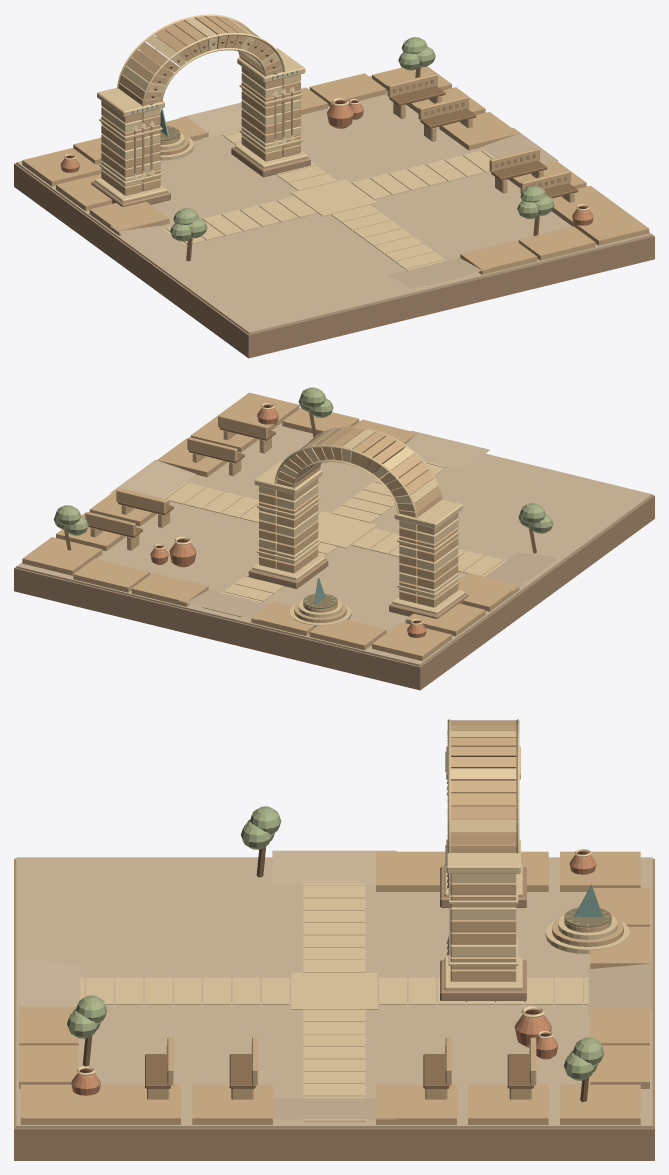
File: ochre_court-scene.glb
The picture shows the model from 3 angles, top to bottom: view 1: azimuth 30°, elevation 25°; view 2: azimuth 150°, elevation 25°; view 3: azimuth 270°, elevation 25°; orthographic projection. The views are drawn at different scales.
Parts seen in each view (by area): view 1: runtime_Court paving, runtime_Honey sandstone, runtime_Fresh carved sandstone, runtime_Court strata, runtime_Dry olive leaves, runtime_Weathered ochre joints, runtime_Desert cedar, runtime_Terracotta vessels; view 2: runtime_Court paving, runtime_Honey sandstone, runtime_Fresh carved sandstone, runtime_Court strata, runtime_Dry olive leaves, runtime_Terracotta vessels, runtime_Weathered ochre joints, runtime_Desert cedar; view 3: runtime_Court paving, runtime_Honey sandstone, runtime_Fresh carved sandstone, runtime_Court strata, runtime_Desert cedar, runtime_Dry olive leaves, runtime_Terracotta vessels, runtime_Weathered ochre joints.
Boxes of the visible parts, box(x1,y1,x2,y2) form: runtime_Court paving: box(16, 75, 652, 334); runtime_Honey sandstone: box(22, 16, 649, 274); runtime_Fresh carved sandstone: box(64, 14, 589, 285); runtime_Court strata: box(14, 163, 654, 358); runtime_Dry olive leaves: box(170, 37, 554, 241); runtime_Weathered ochre joints: box(91, 38, 566, 206); runtime_Desert cedar: box(186, 67, 578, 261); runtime_Terracotta vessels: box(60, 100, 593, 225); runtime_Court paving: box(16, 423, 652, 666); runtime_Honey sandstone: box(22, 392, 519, 660); runtime_Fresh carved sandstone: box(154, 403, 506, 627); runtime_Court strata: box(14, 495, 654, 690); runtime_Dry olive leaves: box(53, 387, 553, 535); runtime_Terracotta vessels: box(150, 404, 426, 637); runtime_Weathered ochre joints: box(248, 559, 468, 618); runtime_Desert cedar: box(64, 412, 536, 553); runtime_Court paving: box(16, 850, 652, 1128); runtime_Honey sandstone: box(19, 720, 649, 1124); runtime_Fresh carved sandstone: box(77, 719, 629, 1121); runtime_Court strata: box(14, 858, 654, 1160); runtime_Desert cedar: box(82, 846, 589, 1102); runtime_Dry olive leaves: box(67, 806, 604, 1080); runtime_Terracotta vessels: box(71, 850, 596, 1095); runtime_Weathered ochre joints: box(166, 731, 529, 1077).
Bounding box in the file's own units: 25.8 × 10.68 × 25.8.
